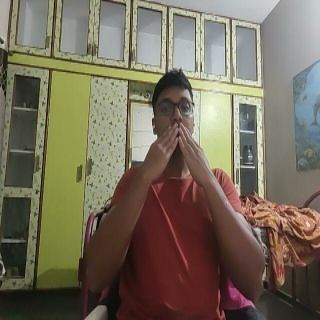Thank You: (140, 122, 215, 191)
